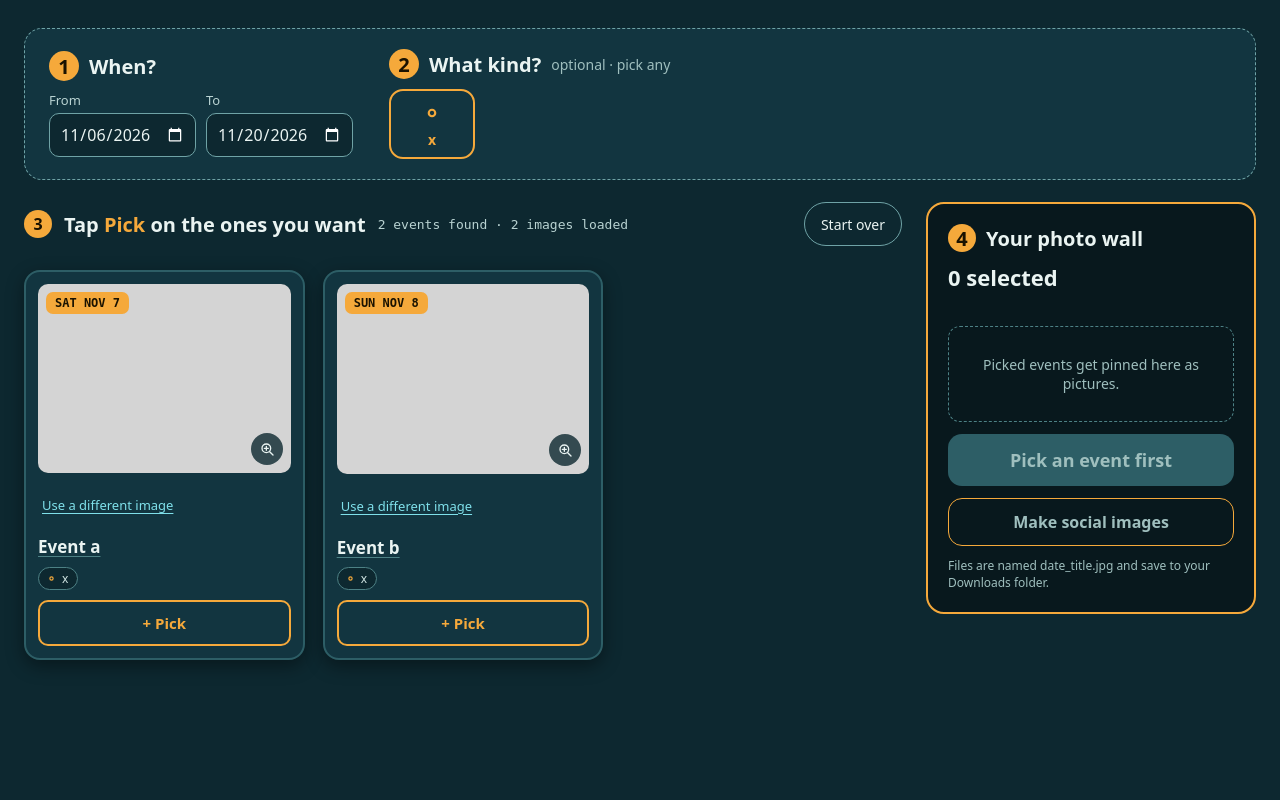
Test: EventsApp: using a different image › changes nothing, and says why, when the link is refused
Click the button "Use a different image" below "SAT NOV 7": (108, 506) [38, 484, 177, 528]
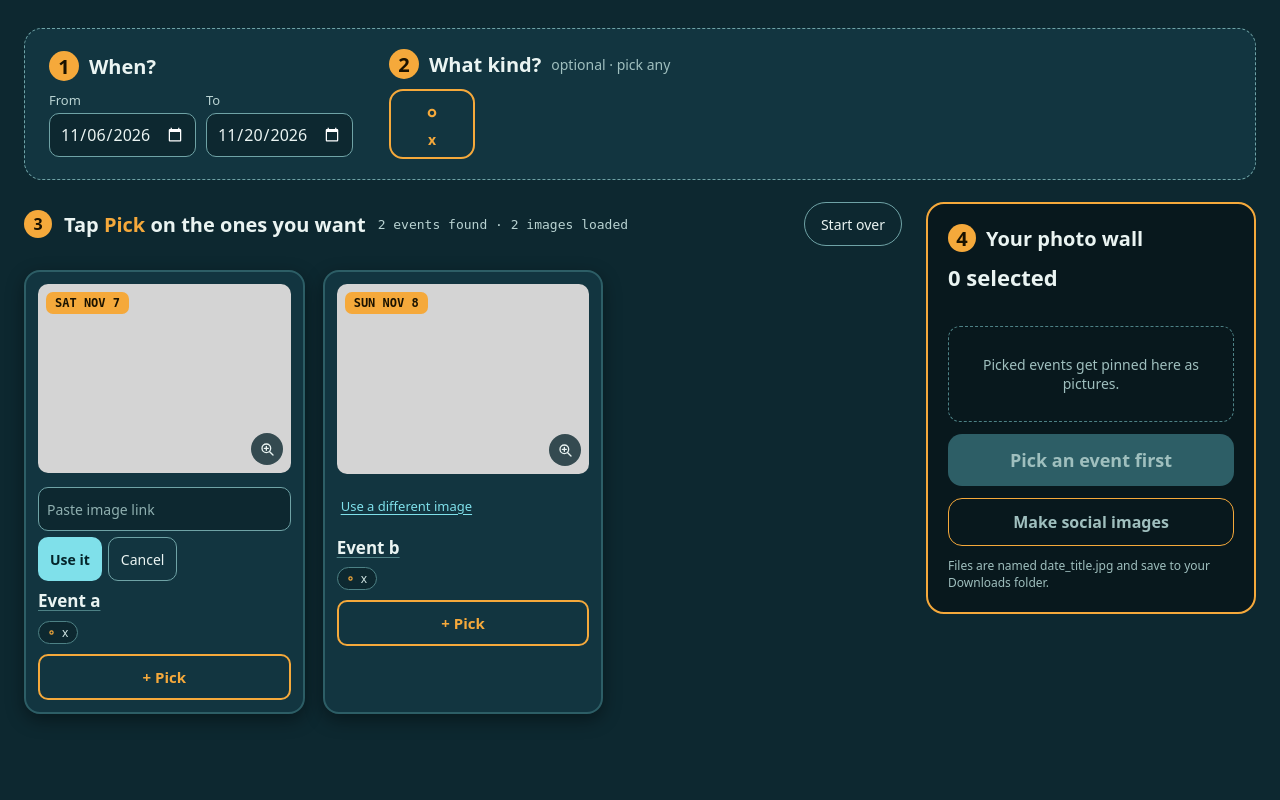
In the field named "Paste an image link for Event a": (164, 510) [38, 488, 291, 532], type "https://example.com/page"
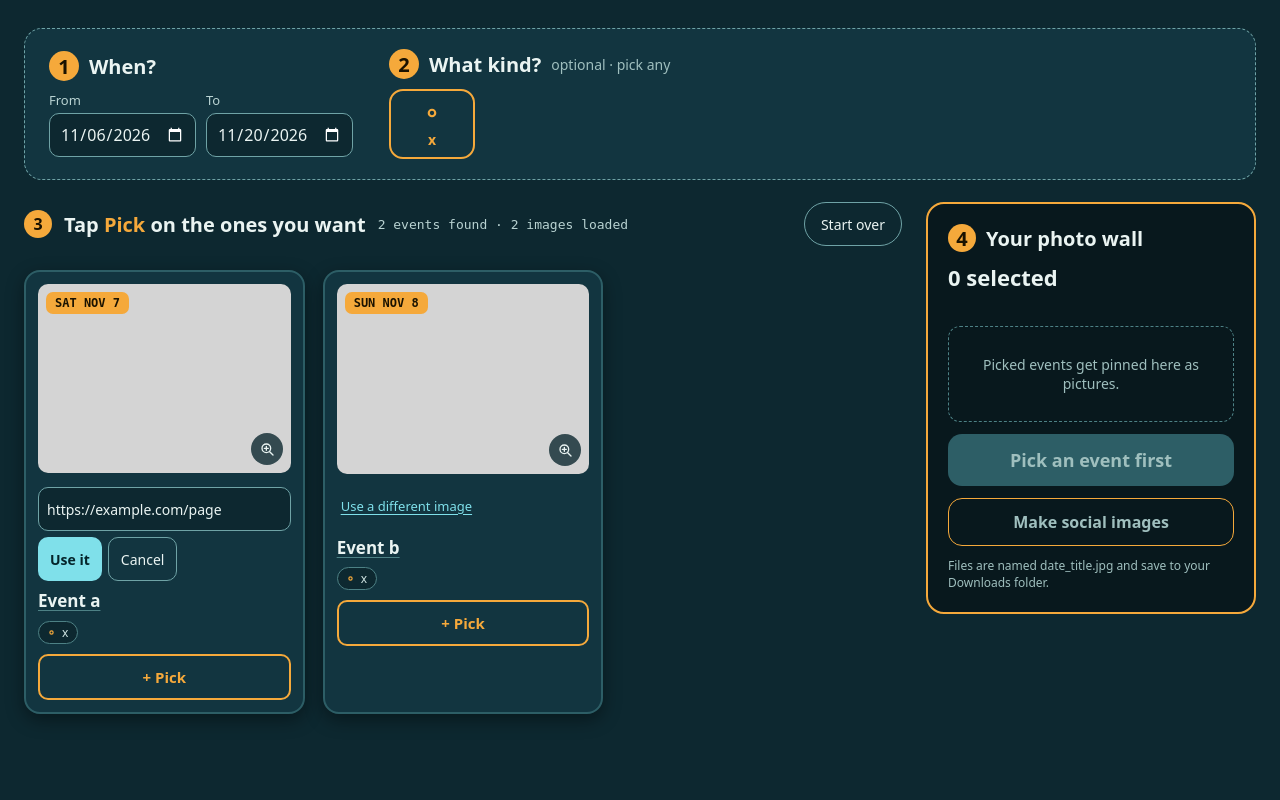
Click the button "Use it": (70, 560) [38, 538, 102, 582]
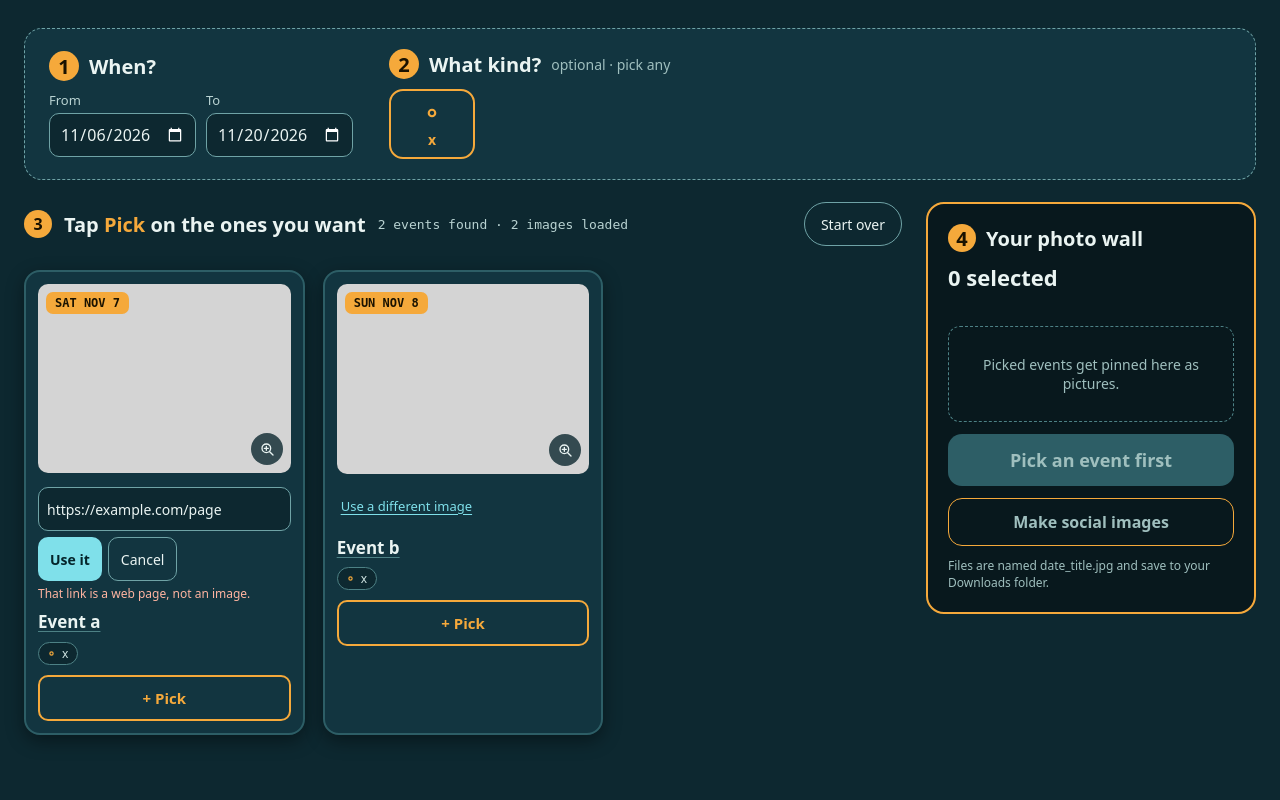
Result: the message reads "That link is a web page, not an image." at [38, 586, 250, 602]
